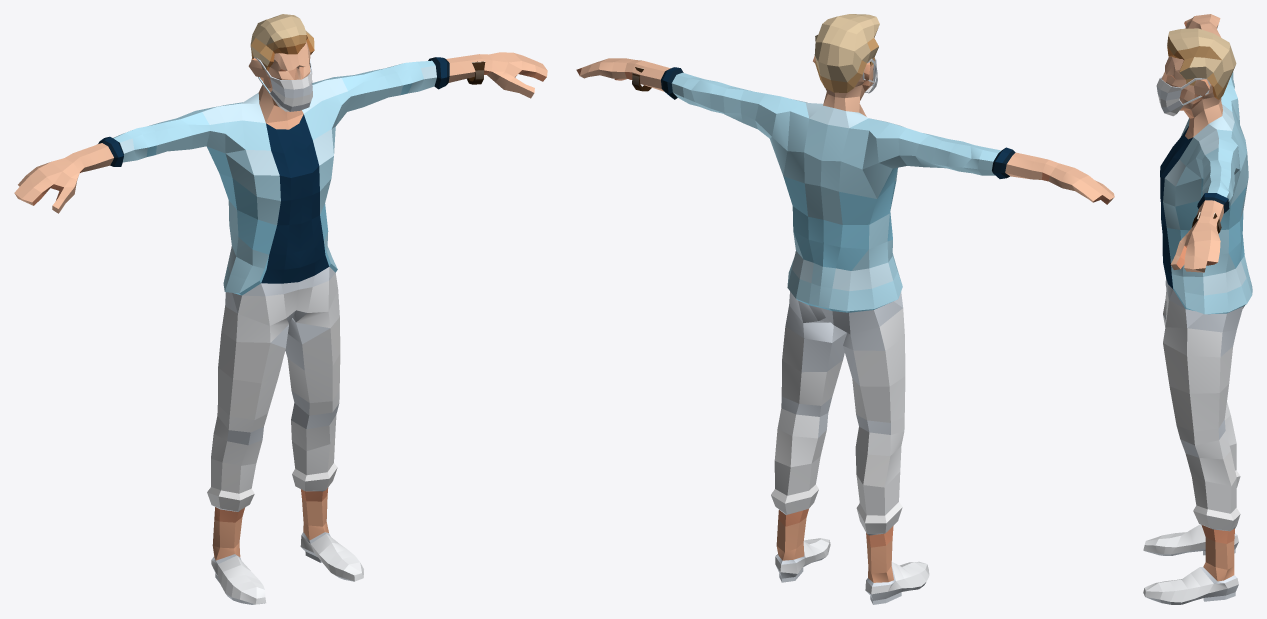
Rendered from night_Male_B-model.obj.
3 views of the same model, side by side, from view 1: azimuth 30°, elevation 25°; view 2: azimuth 150°, elevation 25°; view 3: azimuth 270°, elevation 25° (orthographic). The views are drawn at different scales.
Visible parts, largest first — view 1: night_Male_B, acc_men_hair_brown, acc_mask_white; view 2: night_Male_B, acc_men_hair_brown; view 3: night_Male_B, acc_men_hair_brown, acc_mask_white.
Part boxes in pixels (left/top/right/bottom): night_Male_B: left=14, top=41, right=547, bottom=604; acc_men_hair_brown: left=250, top=14, right=314, bottom=71; acc_mask_white: left=254, top=57, right=312, bottom=111; night_Male_B: left=576, top=56, right=1114, bottom=604; acc_men_hair_brown: left=814, top=14, right=879, bottom=92; night_Male_B: left=1143, top=14, right=1252, bottom=604; acc_men_hair_brown: left=1167, top=28, right=1236, bottom=99; acc_mask_white: left=1156, top=76, right=1210, bottom=116.
Size of the model in its own units: 182 by 183 by 33.5.
